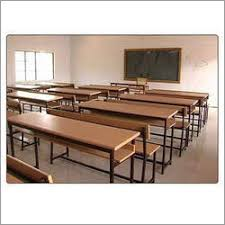Bench: (94, 97, 192, 156)
